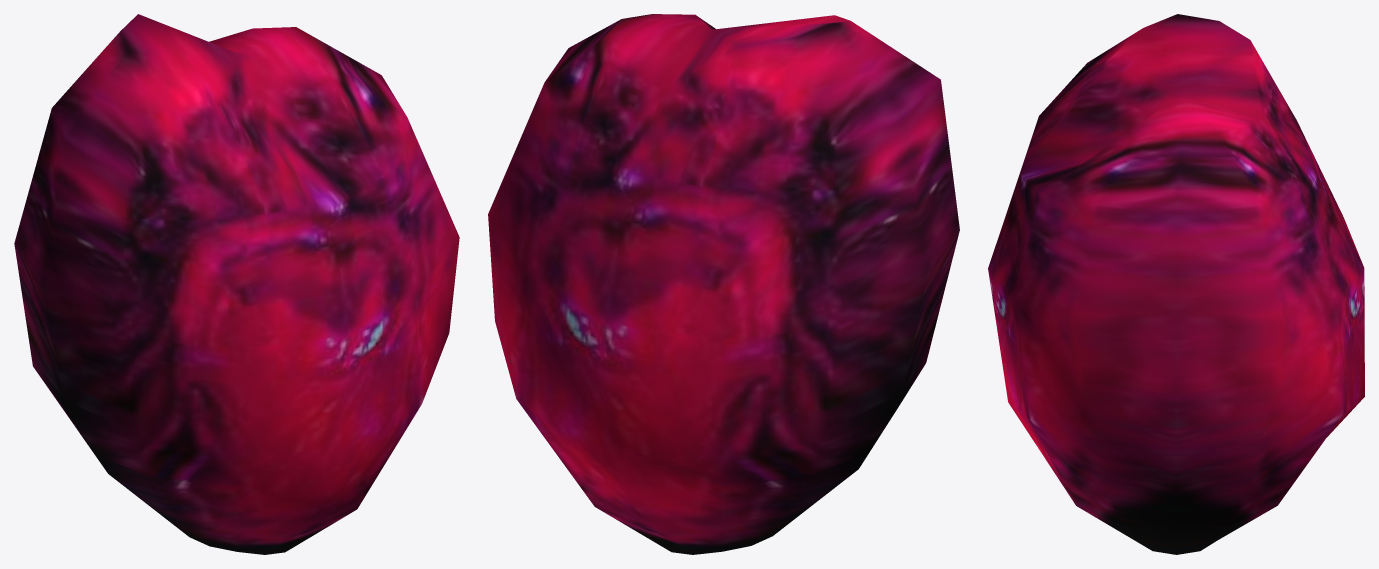
File: baboon_heart.FBX
3 renders of one model, left to right at view 1: azimuth 30°, elevation 25°; view 2: azimuth 150°, elevation 25°; view 3: azimuth 270°, elevation 25°, orthographic. The views are drawn at different scales.
Parts seen in each view (by area): view 1: baboon_heart; view 2: baboon_heart; view 3: baboon_heart.
Boxes of the visible parts, box(x1,y1,x2,y2) form: baboon_heart: box(14, 14, 459, 554); baboon_heart: box(488, 14, 959, 554); baboon_heart: box(988, 14, 1364, 554).
Size of the model in its own units: 29.66 by 38.36 by 27.78.
